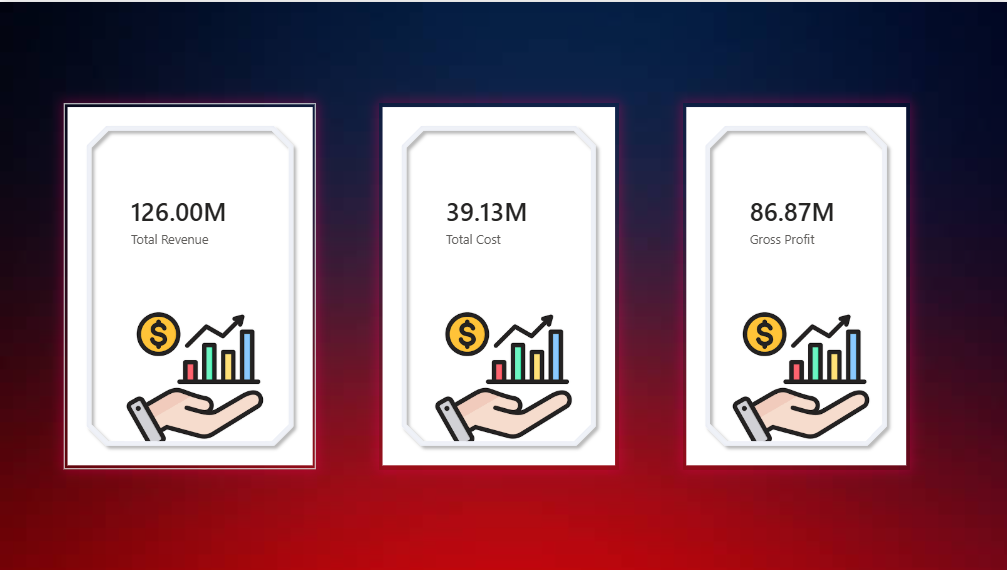

The page's visual inventory and layout, read from the dashboard file:
{"tool":"powerbi","page":{"name":"Overall Status","canvas":[1280,720],"ordinal":1},"visuals":[{"type":"cardVisual","fields":{"Data":["FactSales.Total Revenue"]},"box":[80,128,320,464],"z":0},{"type":"cardVisual","fields":{"Data":["FactSales.Total Cost"]},"box":[480,128,304,464],"z":1000},{"type":"cardVisual","fields":{"Data":["FactSales.Gross Profit"]},"box":[864,128,288,464],"z":2000}]}

Visuals, with their boxes in screenshot pixels (x1, y1, x2, y2), scaled from the page's 1280x720 canvas onto the 1007x570 screenshot:
cardVisual - FactSales.Total Revenue: <box>63,101,315,469</box>
cardVisual - FactSales.Total Cost: <box>378,101,617,469</box>
cardVisual - FactSales.Gross Profit: <box>680,101,906,469</box>
